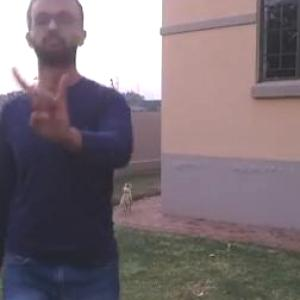takeoff-hand: (9, 61, 81, 149)
